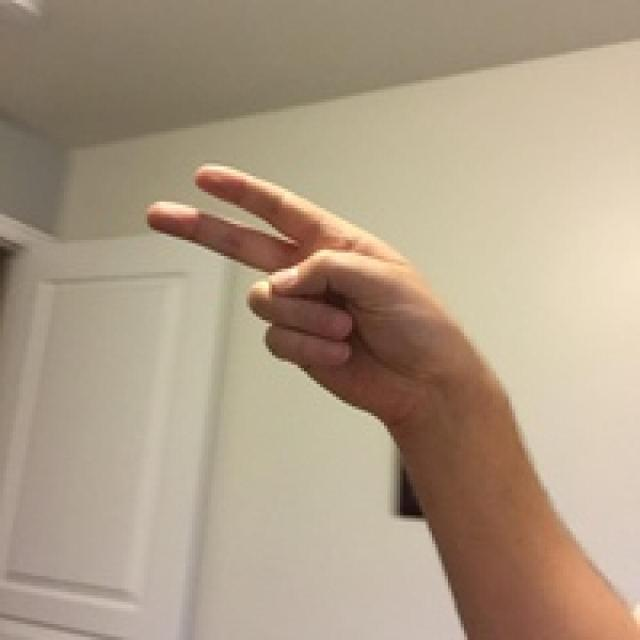H: (110, 138, 589, 430)
